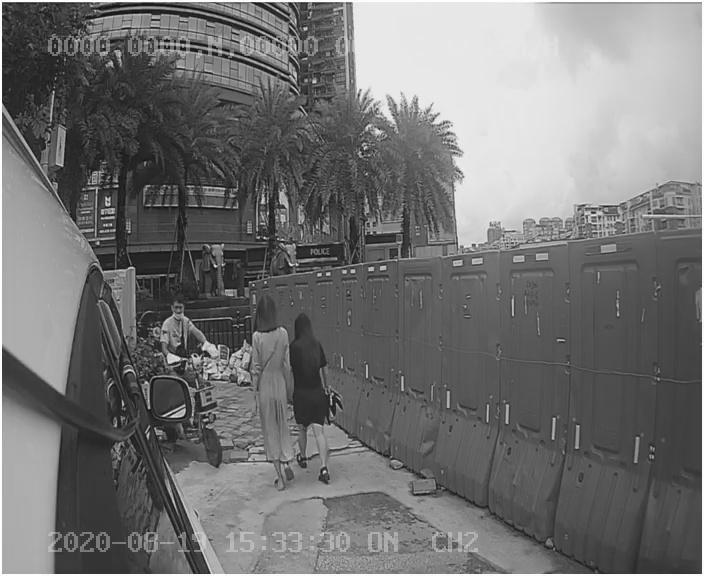person: (240, 297, 304, 493)
